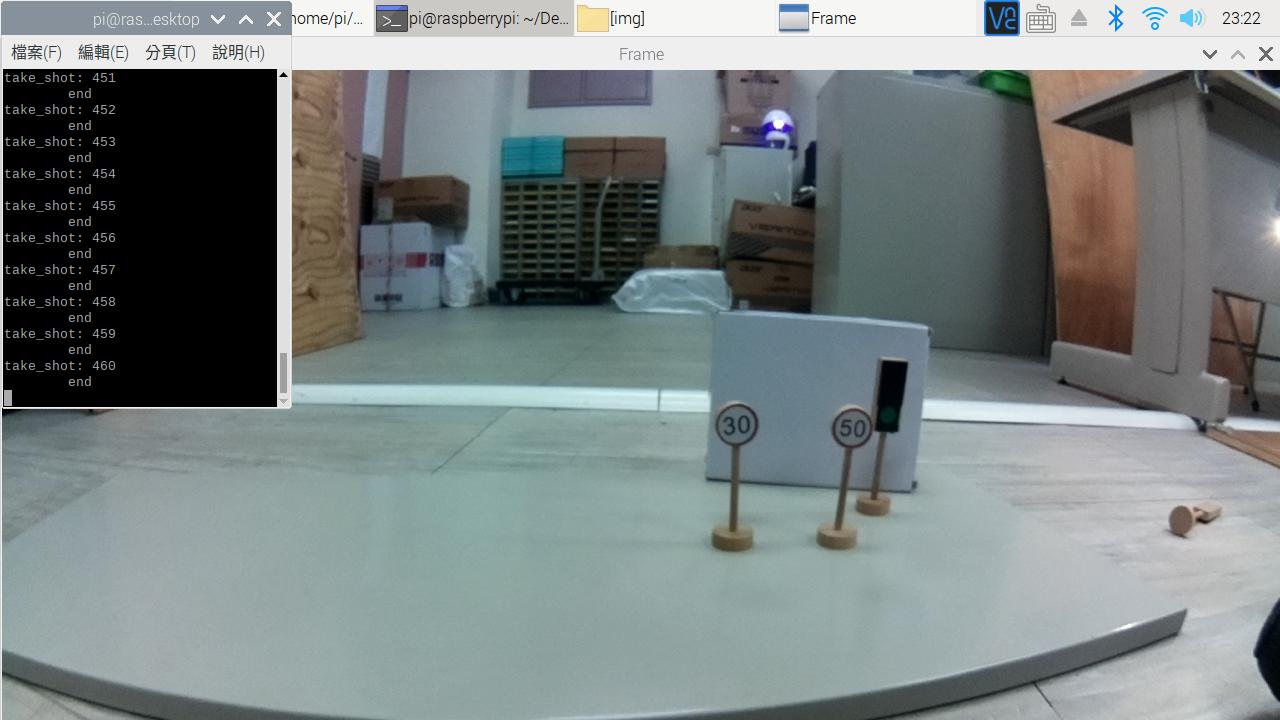Green: (866, 348, 913, 439)
Speed30: (713, 399, 769, 451)
Speed50: (827, 400, 876, 459)
